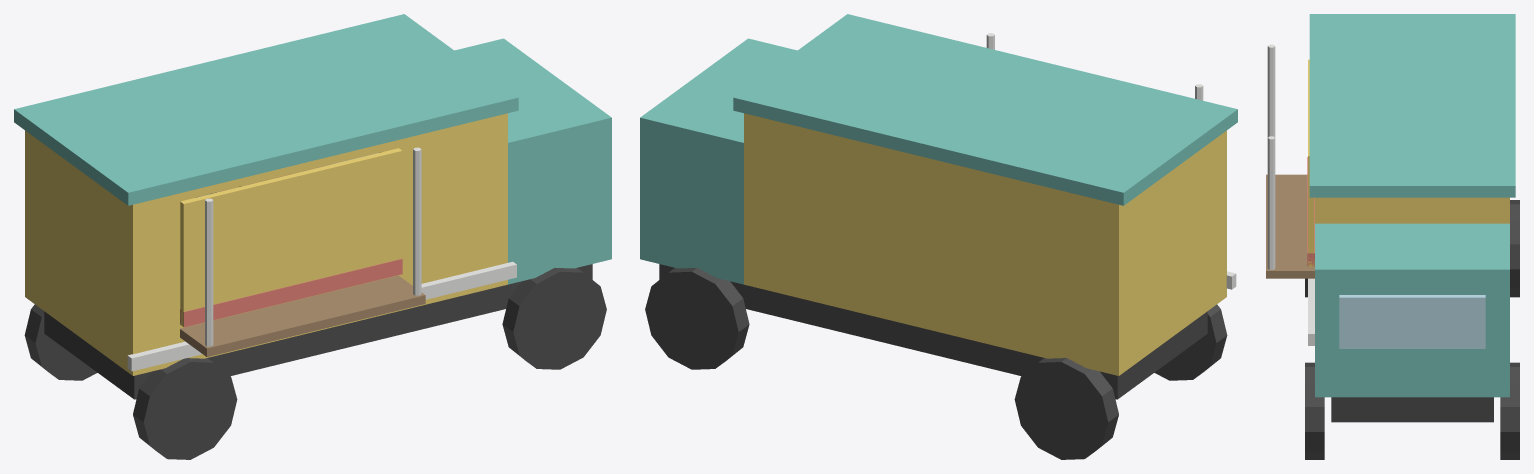
The model's file is food_truck_open.glb.
3 renders of one model, left to right at view 1: azimuth 30°, elevation 25°; view 2: azimuth 150°, elevation 25°; view 3: azimuth 270°, elevation 25°, orthographic. The views are drawn at different scales.
Parts seen in each view (by area): view 1: FoodTruckOpen, Hatch, HatchProps; view 2: FoodTruckOpen; view 3: FoodTruckOpen, HatchProps, Hatch.
Part boxes in pixels (box(x1,y1,x2,y2)): FoodTruckOpen: box(14, 14, 611, 459); Hatch: box(180, 148, 402, 327); HatchProps: box(205, 147, 421, 346); FoodTruckOpen: box(640, 14, 1237, 459); FoodTruckOpen: box(1266, 14, 1519, 459); HatchProps: box(1267, 44, 1275, 269); Hatch: box(1307, 59, 1314, 266).
Size of the model in its own units: 4.73 by 2.57 by 2.34.
